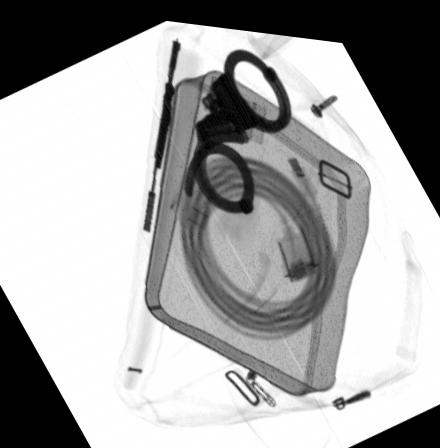Gun: (139, 28, 179, 230)
HandCuffs: (178, 42, 291, 211)
